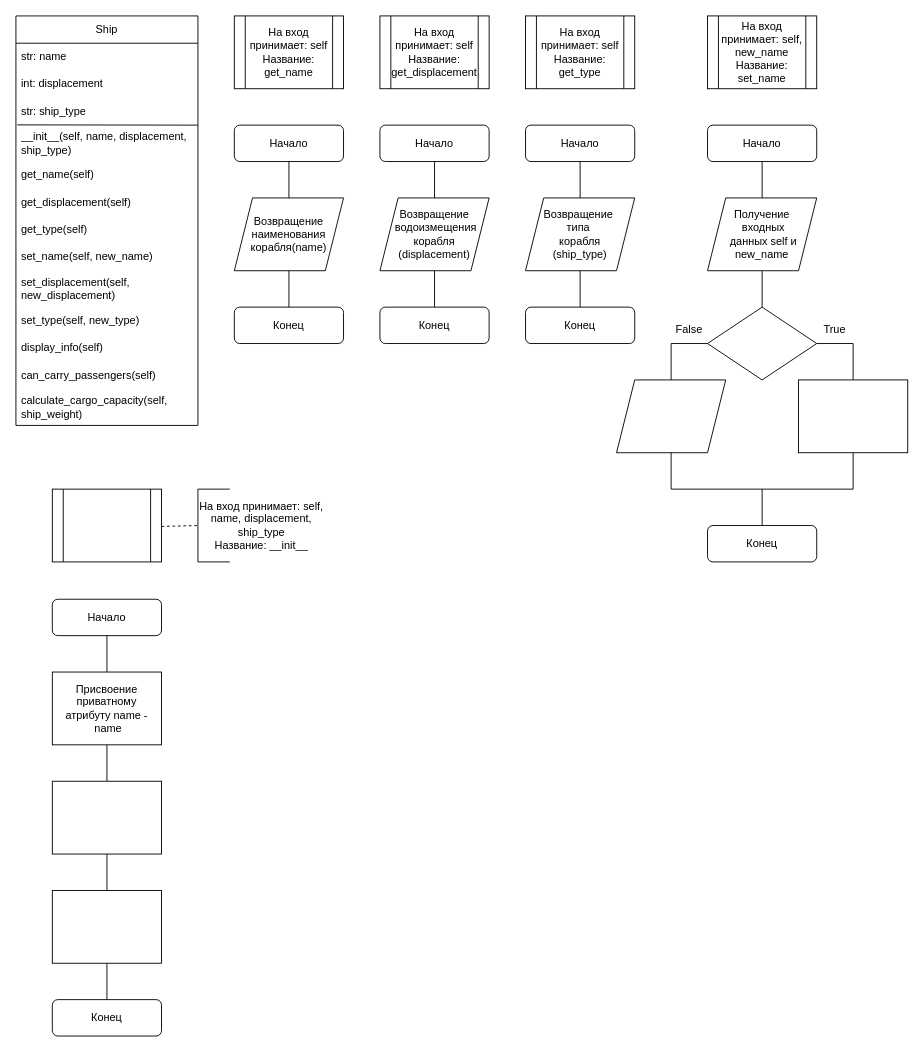
This 924x1052 diagram has some shape labels left out. Here are the shapes that lost their labels. From the top down, the box of each, then its label:
(707, 306, 817, 380): new_name не пустой?
(616, 379, 726, 453): Вывод сообщения об ошибке ввода
(798, 379, 908, 453): Присвоение new_name к name
(51, 780, 162, 854): Присвоение приватному атрибуту displacement - displacement
(51, 890, 162, 963): Присвоение приватному атрибуту ship_type - ship_type
